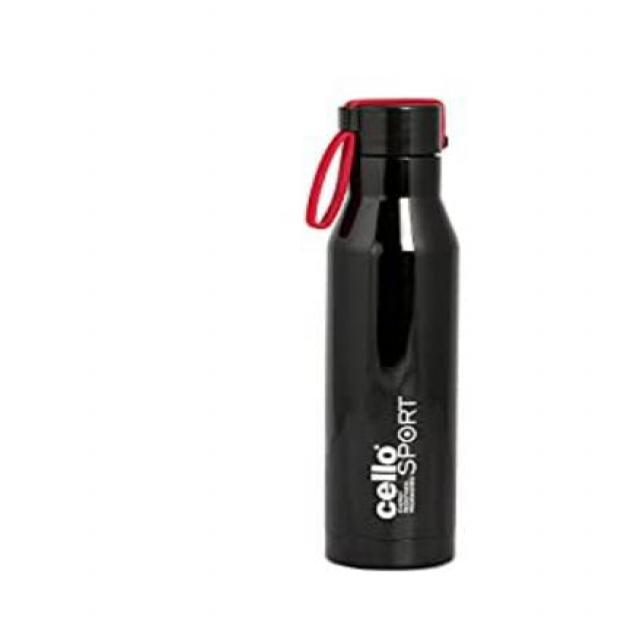Others: (298, 85, 471, 576)
